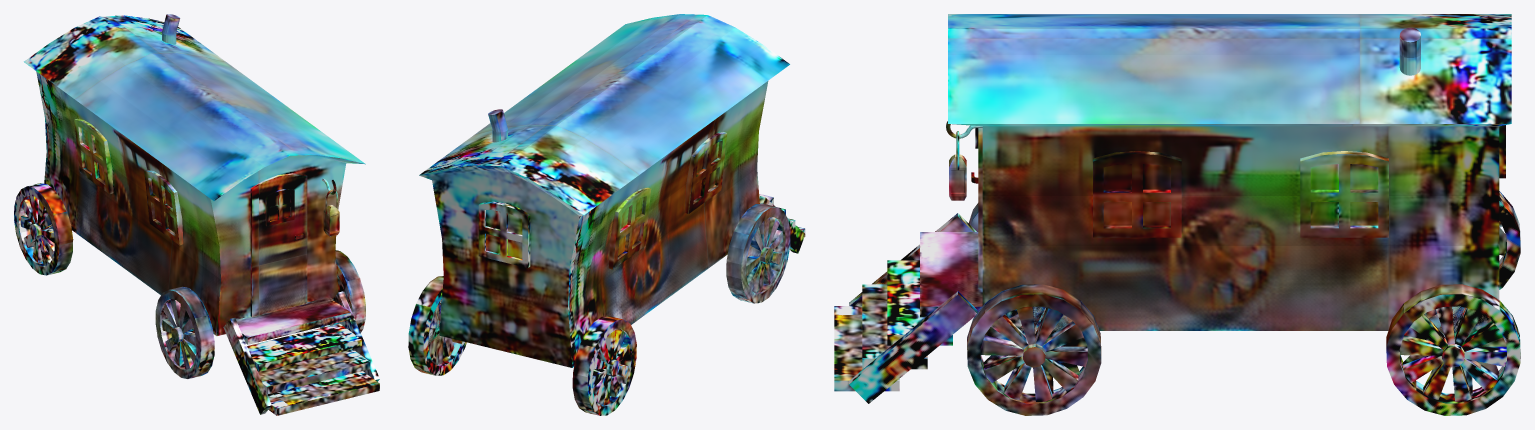
File: textured_latent_paint.glb
3 views of the same model, side by side, from view 1: azimuth 30°, elevation 25°; view 2: azimuth 150°, elevation 25°; view 3: azimuth 270°, elevation 25° (orthographic). The views are drawn at different scales.
Visible parts, largest first — view 1: pMesh1; view 2: pMesh1; view 3: pMesh1.
Part boxes in pixels (x1,y1,x2,y2): pMesh1: (14, 14, 379, 415); pMesh1: (408, 14, 805, 415); pMesh1: (834, 14, 1520, 415).
Bounding box in the file's own units: 0.853 × 1.16 × 2.
Materials: 1 (1 with a texture image).
